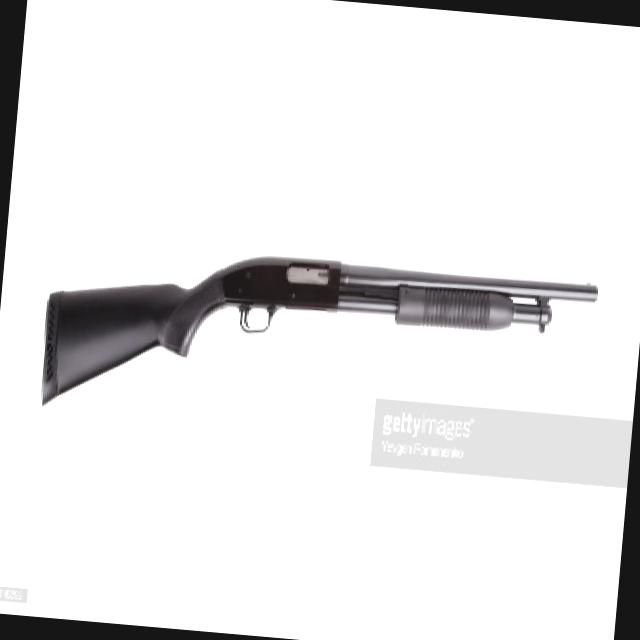long weapon: (13, 209, 602, 439)
